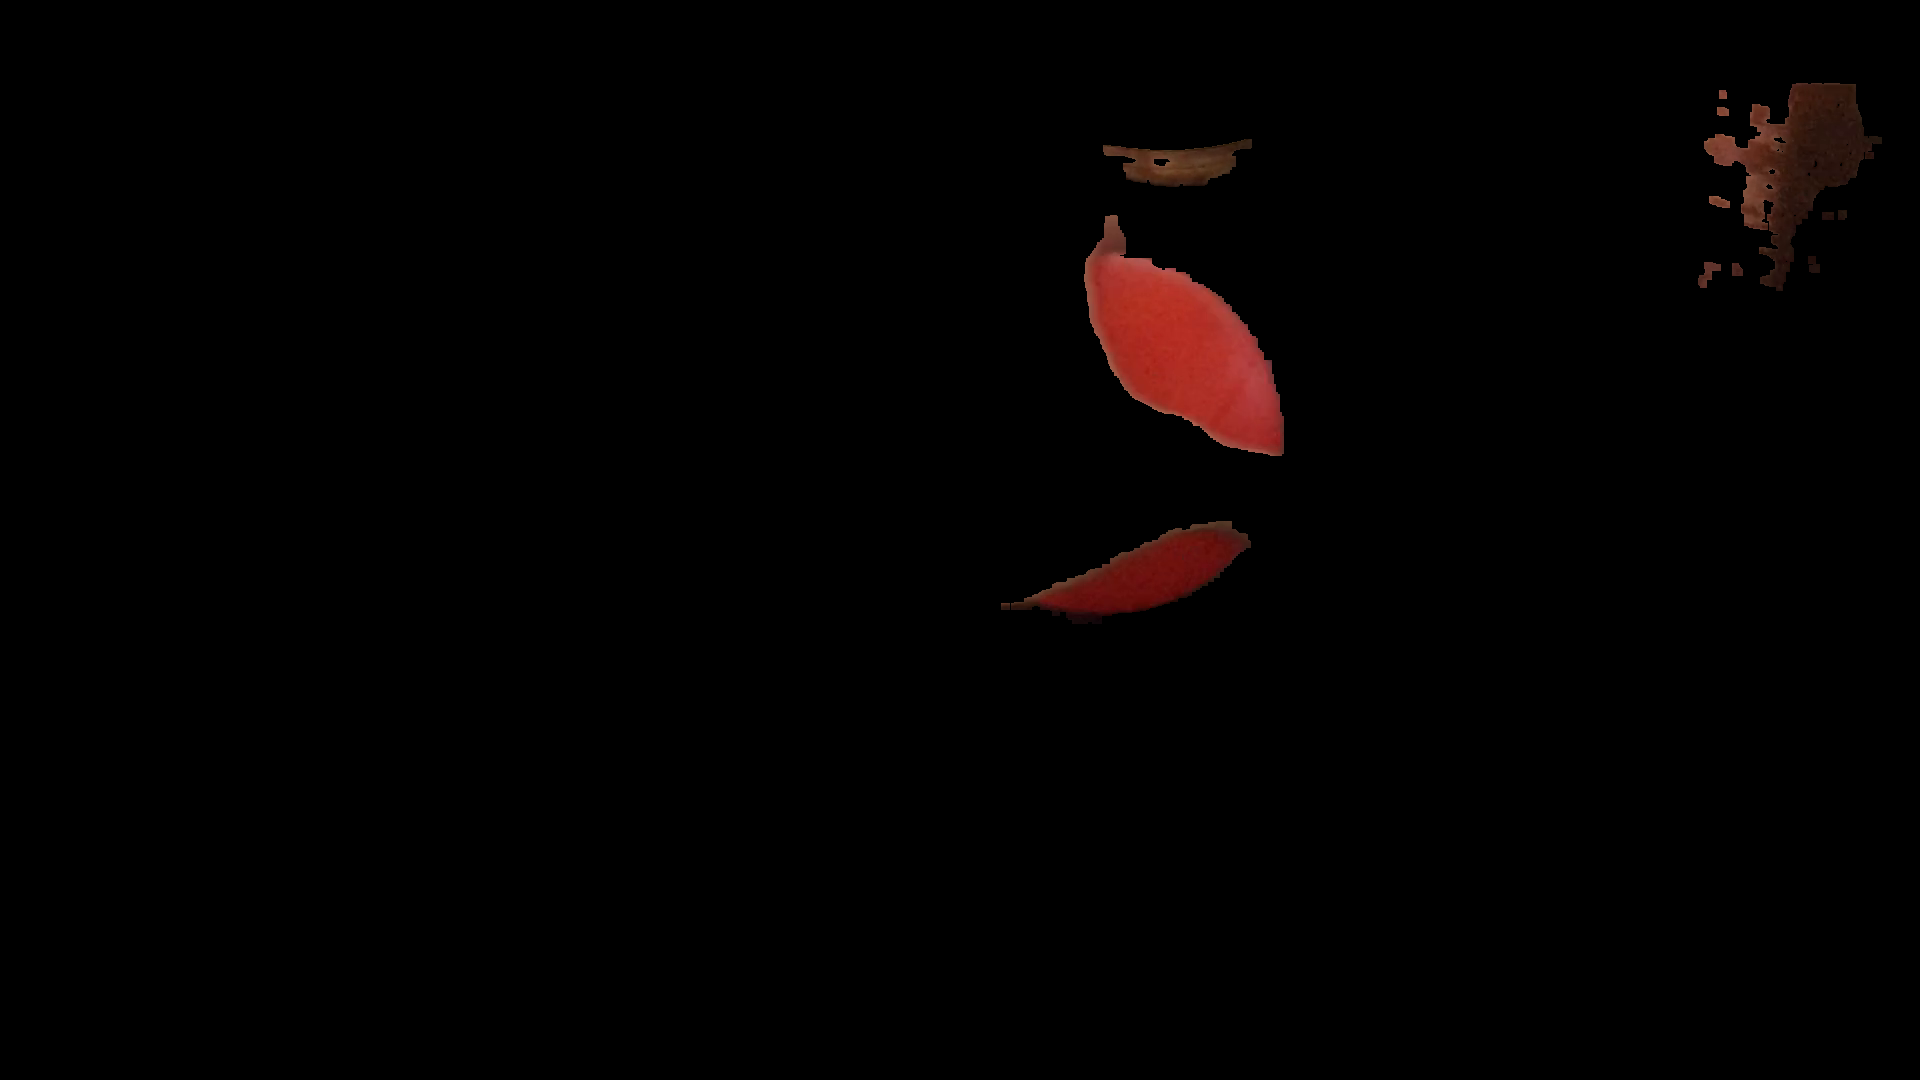Ball: (903, 240, 1280, 618)
